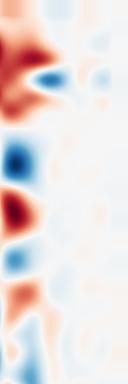filament: (0, 183, 49, 237)
